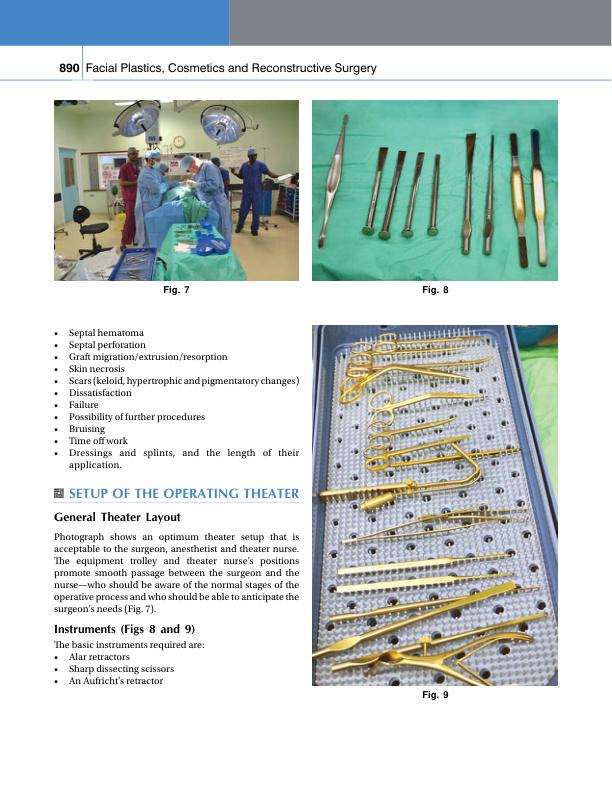caption: (120, 622, 196, 636), (421, 284, 451, 296), (162, 285, 191, 296), (421, 690, 449, 701)
header: (85, 61, 378, 76)
image: (311, 324, 558, 686), (53, 98, 300, 282), (312, 99, 559, 282)
list: (51, 327, 302, 474), (52, 652, 175, 686)
section-heading: (68, 486, 300, 500)
sub-section-heading: (53, 511, 182, 525), (53, 622, 117, 635)
text: (53, 531, 301, 616), (53, 640, 205, 651)
